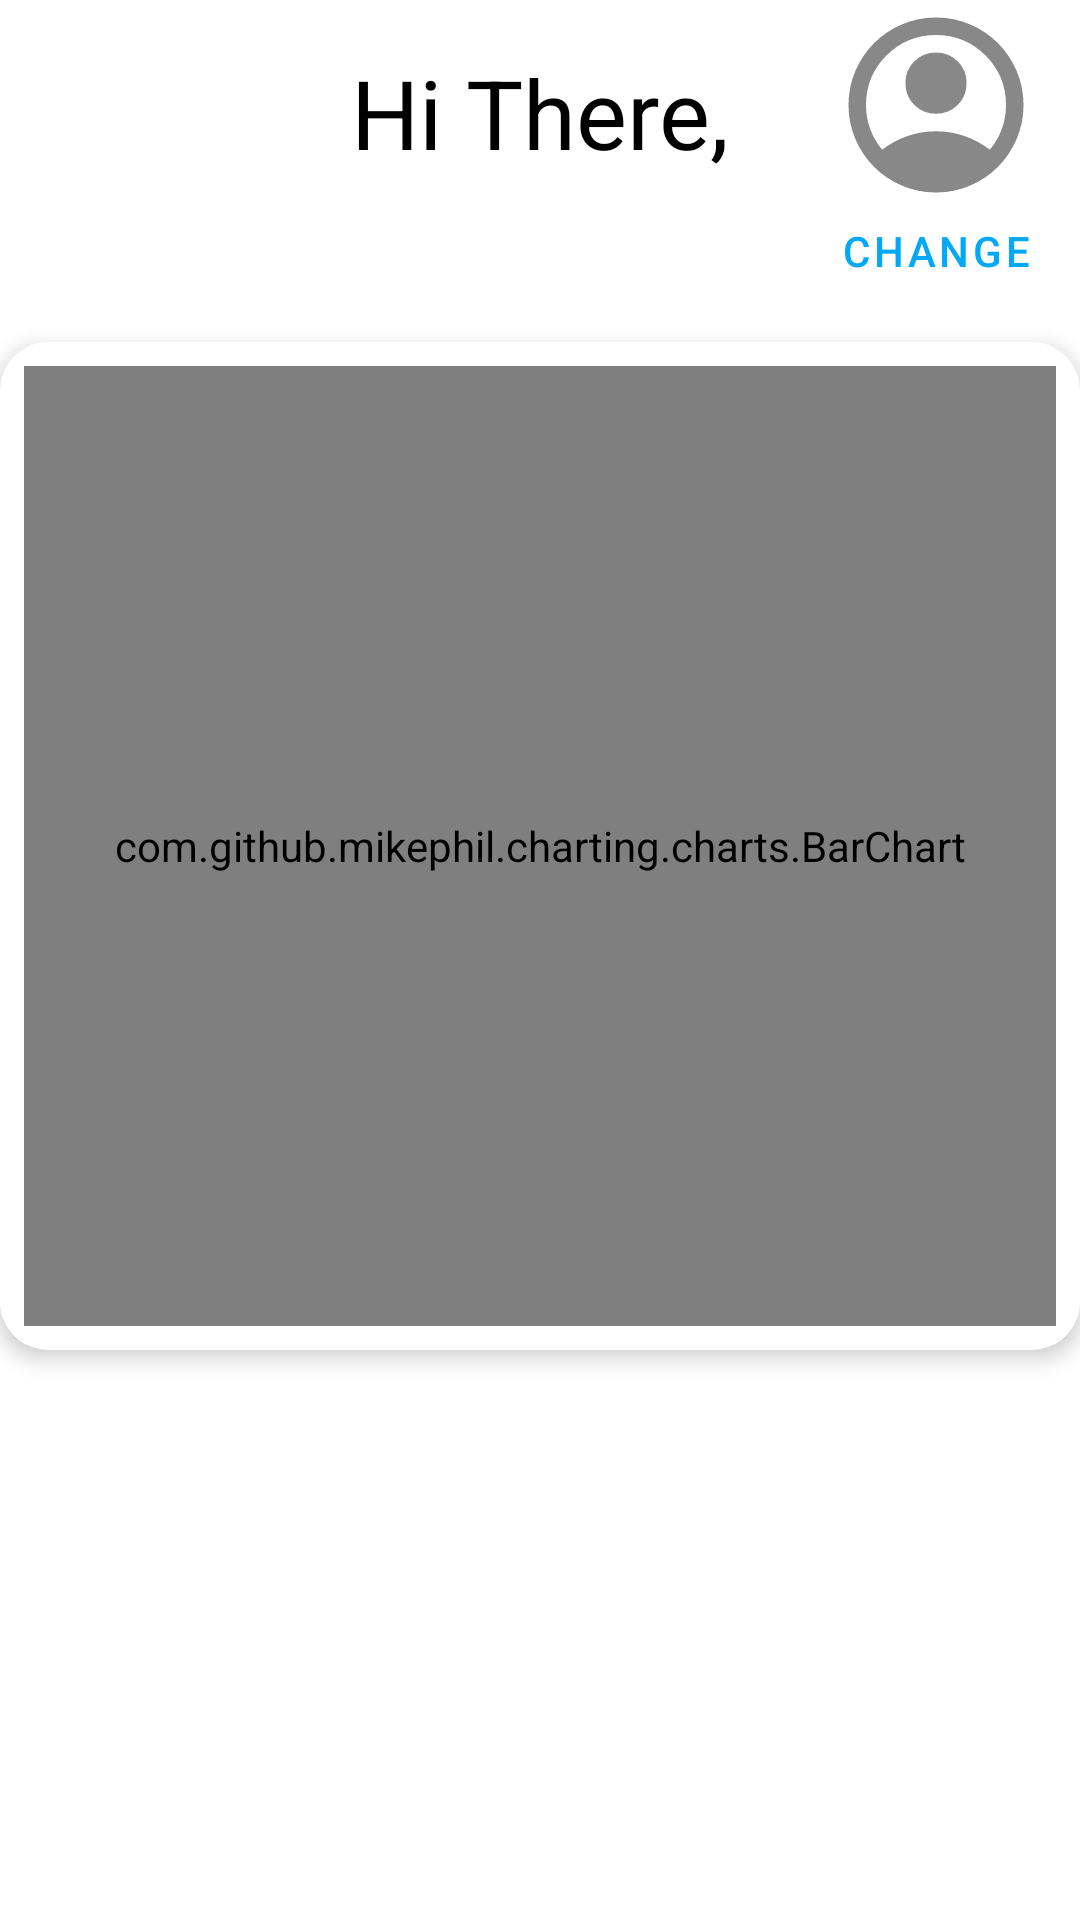

Where to tap for icons on this 1080 × 1920 app screen, as [x,y]:
account circle: [936,105]
